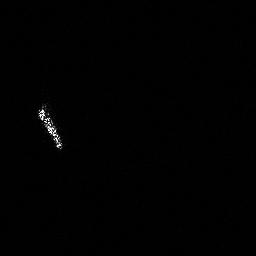ship: (35, 102, 65, 152)
